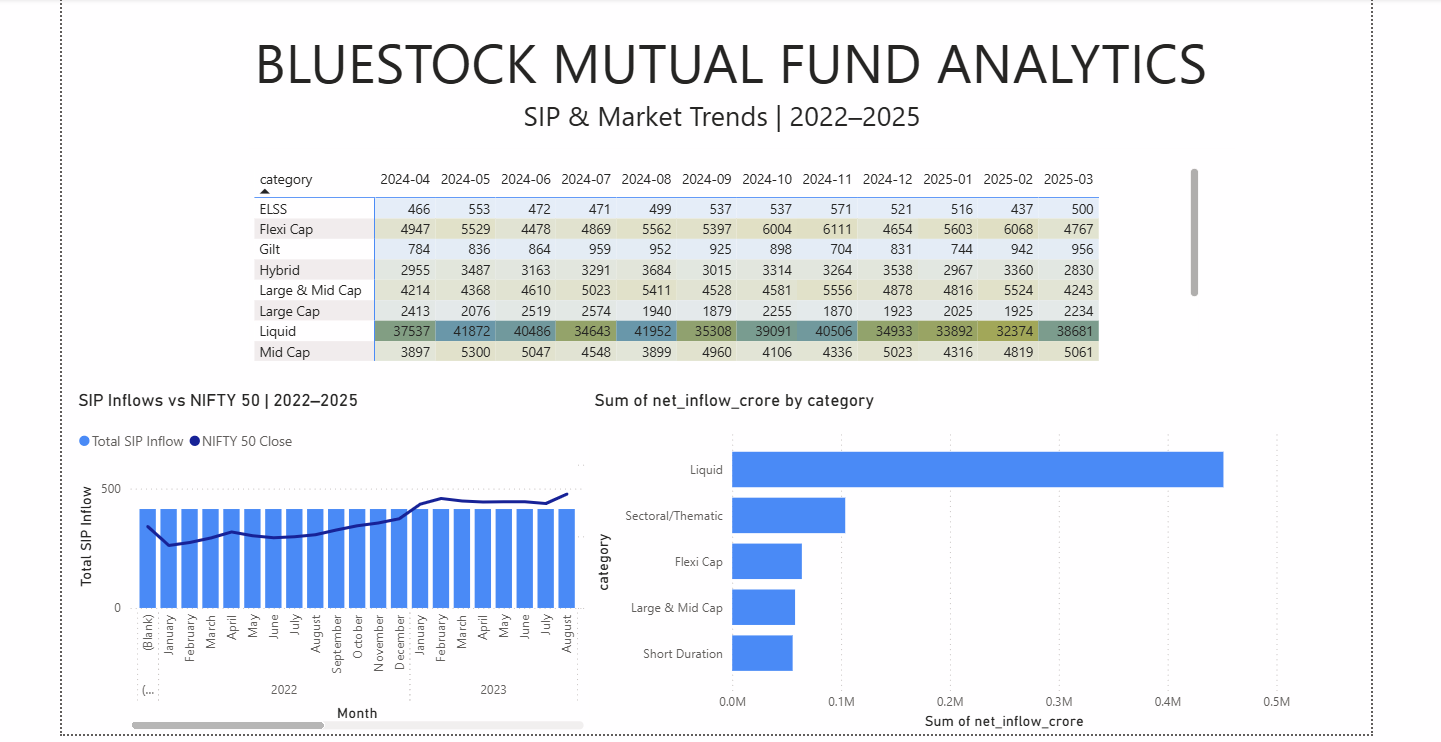

This screenshot's page, from the dashboard's own definition file:
{"tool":"powerbi","page":{"name":"SIP & Market Trends","canvas":[1280,720],"ordinal":3},"visuals":[{"type":"textbox","box":[183.8,21.2,963.8,126.2],"z":0},{"type":"lineClusteredColumnComboChart","title":"SIP Inflows vs NIFTY 50 | 2022–2025","fields":{"Category":["DateTable.Date.Variation.Date Hierarchy.Year","DateTable.Date.Variation.Date Hierarchy.Month"],"Y2":["SIP.NIFTY 50 Close"],"Y":["SIP.Total SIP Inflow"]},"box":[11.2,382.5,556.2,337.5],"z":1000},{"type":"clusteredBarChart","fields":{"Category":["category_Inflow.category"],"Y":["Sum(category_Inflow.net_inflow_crore)"]},"box":[516.2,382.5,691.2,337.5],"z":2000},{"type":"pivotTable","fields":{"Rows":["category_Inflow.category"],"Columns":["category_Inflow.Year Month"],"Values":["Sum(category_Inflow.net_inflow_crore)"]},"box":[183.8,161.2,933.8,198.8],"z":3000}]}

Visuals, with their boxes on the page's 1280x720 design canvas (x1, y1, x2, y2). These are canvas units, not pixel positions in the 1441x742 screenshot, which may show the page scaled, cropped or inside an application window:
textbox: <bbox>184, 21, 1148, 147</bbox>
"SIP Inflows vs NIFTY 50 | 2022–2025" lineClusteredColumnComboChart: <bbox>11, 382, 567, 720</bbox>
clusteredBarChart - category_Inflow.category x Sum(category_Inflow.net_inflow_crore): <bbox>516, 382, 1207, 720</bbox>
pivotTable - category_Inflow.category x category_Inflow.Year Month: <bbox>184, 161, 1118, 360</bbox>
